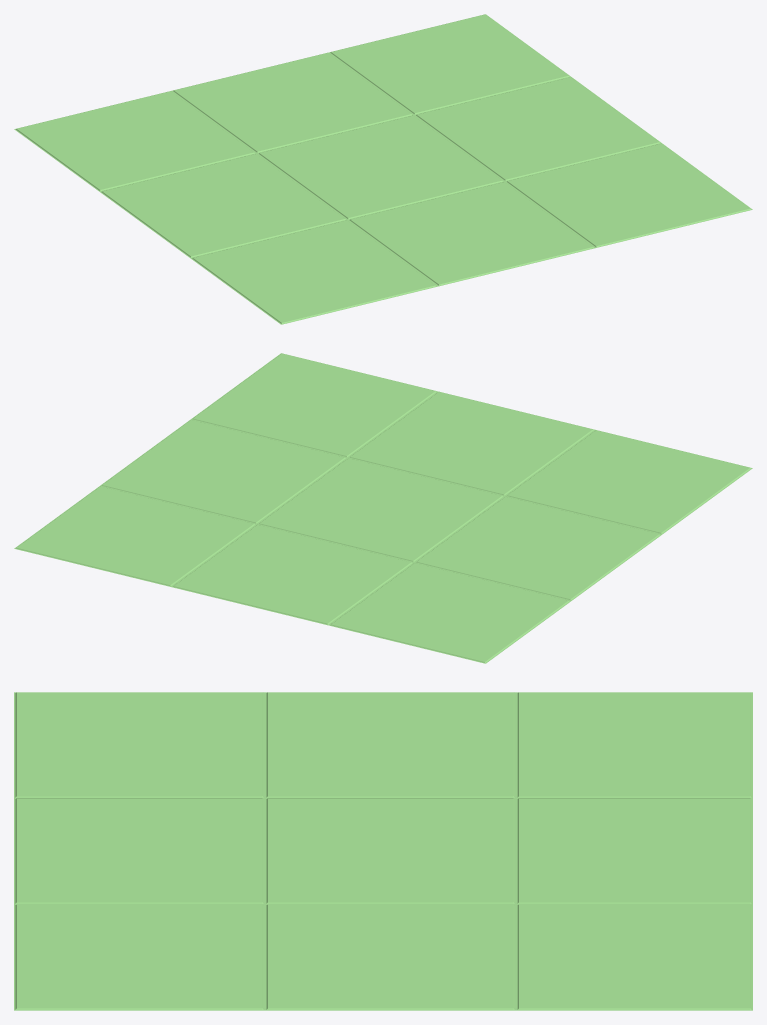
The model's file is Room_ceiling_side.fbx.
3 views of the same model, one above another, from view 1: azimuth 30°, elevation 25°; view 2: azimuth 150°, elevation 25°; view 3: azimuth 270°, elevation 25° (orthographic). The views are drawn at different scales.
Visible parts, largest first — view 1: Room_ceiling_side; view 2: Room_ceiling_side; view 3: Room_ceiling_side.
Part boxes in pixels (x1,y1,x2,y2): Room_ceiling_side: (14, 14, 752, 324); Room_ceiling_side: (14, 353, 752, 663); Room_ceiling_side: (14, 692, 752, 1010).
Size of the model in its own units: 2 by 0.00309 by 1.96.
